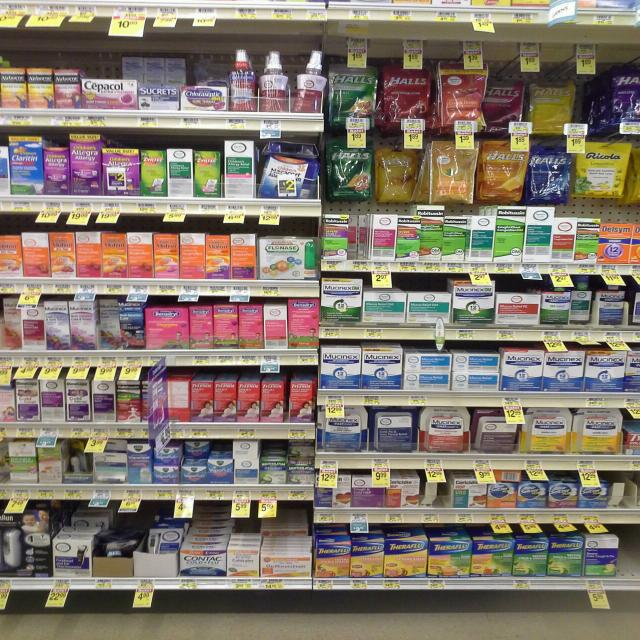empty: (606, 476, 640, 521), (616, 524, 640, 584)
